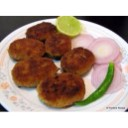cutlet: (36, 74, 87, 104), (13, 58, 55, 86), (61, 47, 94, 75), (10, 37, 44, 61), (46, 31, 72, 55), (28, 22, 59, 39)
